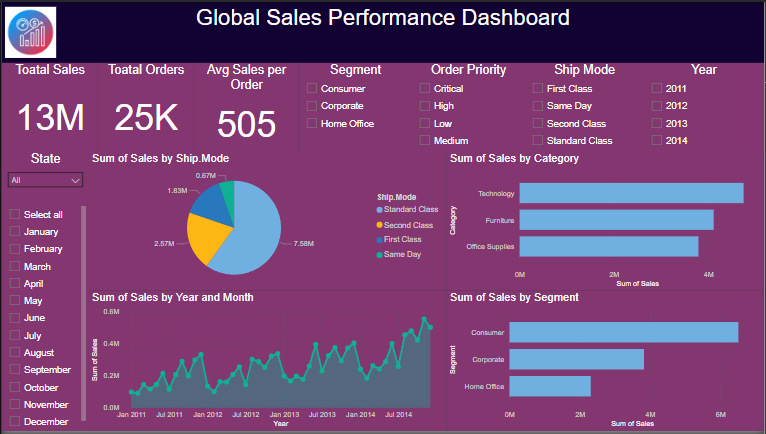

What the dashboard file says about the page in this screenshot:
{"tool":"powerbi","page":{"name":"Page 1","canvas":[1280,720],"ordinal":0},"visuals":[{"type":"textbox","box":[0,0,1280,102.5],"z":0},{"type":"image","box":[0,0,95.7,102.5],"z":1000},{"type":"card","title":"Toatal Sales","fields":{"Values":["All Measures.Total Sales"]},"box":[0,102.5,161.3,149.5],"z":2000},{"type":"slicer","fields":{"Values":["superstore.Order.Date.Variation.Date Hierarchy.Month"]},"box":[0,337.6,146.1,383],"z":3000},{"type":"card","title":"Toatal Orders","fields":{"Values":["All Measures.Total Orders"]},"box":[161.3,102.5,161.3,149.5],"z":4000},{"type":"card","title":"Avg Sales per Order","fields":{"Values":["All Measures.Avg Sales per Order"]},"box":[322.5,102.5,176.4,149.5],"z":5000},{"type":"areaChart","fields":{"Category":["superstore.Order.Date.Variation.Date Hierarchy.Year","superstore.Order.Date.Variation.Date Hierarchy.Month"],"Y":["Sum(superstore.Sales)"]},"box":[146.1,485.5,601.4,235.2],"z":6000},{"type":"barChart","fields":{"Y":["Sum(superstore.Sales)"],"Category":["superstore.Category"]},"box":[747.5,252,532.5,233.5],"z":7000},{"type":"pieChart","fields":{"Y":["Sum(superstore.Sales)"],"Category":["superstore.Ship.Mode"]},"box":[146.1,252,601.4,233.5],"z":8000},{"type":"barChart","fields":{"Y":["Sum(superstore.Sales)"],"Category":["superstore.Segment"]},"box":[747.5,485.5,532.5,235.2],"z":9000},{"type":"slicer","title":"Segment","fields":{"Values":["superstore.Segment"]},"box":[498.9,102.5,189.8,149.5],"z":10000},{"type":"slicer","title":"Order Priority","fields":{"Values":["superstore.Order.Priority"]},"box":[688.7,102.5,189.8,149.5],"z":11000},{"type":"slicer","title":"Ship Mode","fields":{"Values":["superstore.Ship.Mode"]},"box":[878.5,102.5,199.9,149.5],"z":12000},{"type":"slicer","title":"Year","fields":{"Values":["superstore.Order.Date.Variation.Date Hierarchy.Year"]},"box":[1078.4,102.5,201.6,149.5],"z":13000},{"type":"slicer","title":"State","fields":{"Values":["superstore.State"]},"box":[0,252,146.1,85.7],"z":14000}]}

Visuals, with their boxes in screenshot pixels (x1, y1, x2, y2), scaled from the page's 1280x720 canvas onto the 766x434 screenshot:
textbox: detection(0, 0, 765, 62)
image: detection(0, 0, 57, 62)
"Toatal Sales" card: detection(0, 62, 97, 152)
slicer - superstore.Order.Date.Variation.Date Hierarchy.Month: detection(0, 203, 87, 433)
"Toatal Orders" card: detection(97, 62, 193, 152)
"Avg Sales per Order" card: detection(193, 62, 299, 152)
areaChart - superstore.Order.Date.Variation.Date Hierarchy.Year x superstore.Order.Date.Variation.Date Hierarchy.Month: detection(87, 293, 447, 433)
barChart - Sum(superstore.Sales) x superstore.Category: detection(447, 152, 765, 293)
pieChart - Sum(superstore.Sales) x superstore.Ship.Mode: detection(87, 152, 447, 293)
barChart - Sum(superstore.Sales) x superstore.Segment: detection(447, 293, 765, 433)
"Segment" slicer: detection(299, 62, 412, 152)
"Order Priority" slicer: detection(412, 62, 526, 152)
"Ship Mode" slicer: detection(526, 62, 645, 152)
"Year" slicer: detection(645, 62, 765, 152)
"State" slicer: detection(0, 152, 87, 204)
